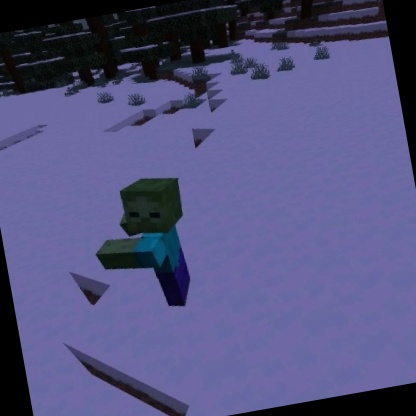zombie: (79, 168, 205, 323)
